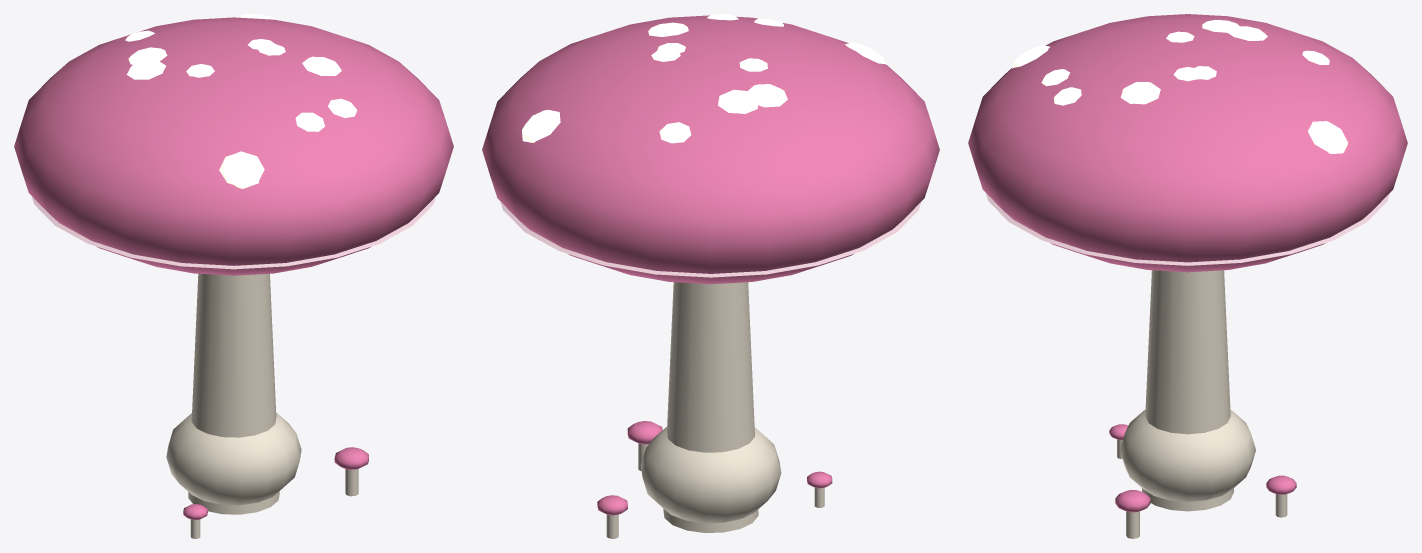
The model's file is tree_mushroom.glb.
3 renders of one model, left to right at view 1: azimuth 30°, elevation 25°; view 2: azimuth 150°, elevation 25°; view 3: azimuth 270°, elevation 25°, orthographic. The views are drawn at different scales.
Parts seen in each view (by area): view 1: tree_mushroom_tc; view 2: tree_mushroom_tc; view 3: tree_mushroom_tc.
Part boxes in pixels (bbox=[...]): tree_mushroom_tc: bbox=[14, 14, 453, 538]; tree_mushroom_tc: bbox=[482, 14, 939, 538]; tree_mushroom_tc: bbox=[968, 14, 1407, 538].
Size of the model in its own units: 4 by 4.43 by 4.
